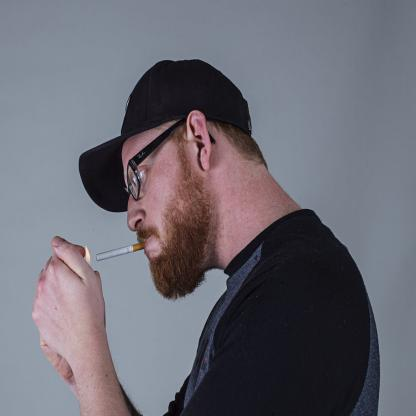smoking: (96, 242, 146, 262)
